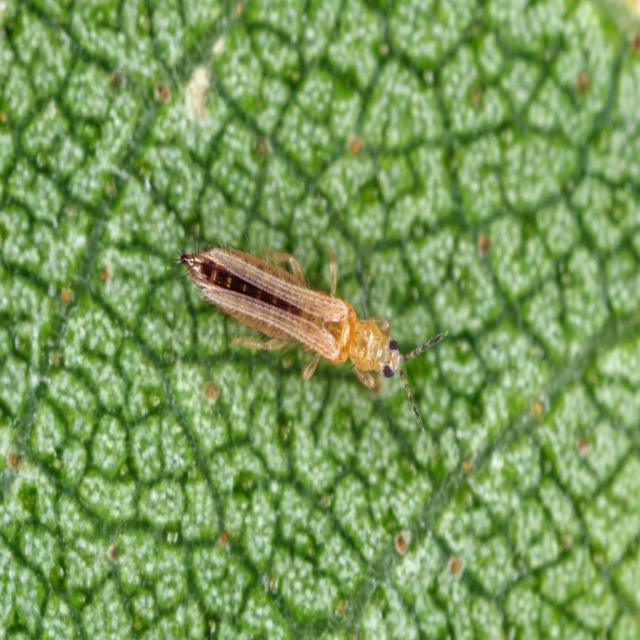Thrip-Adult-: (158, 208, 474, 436)
